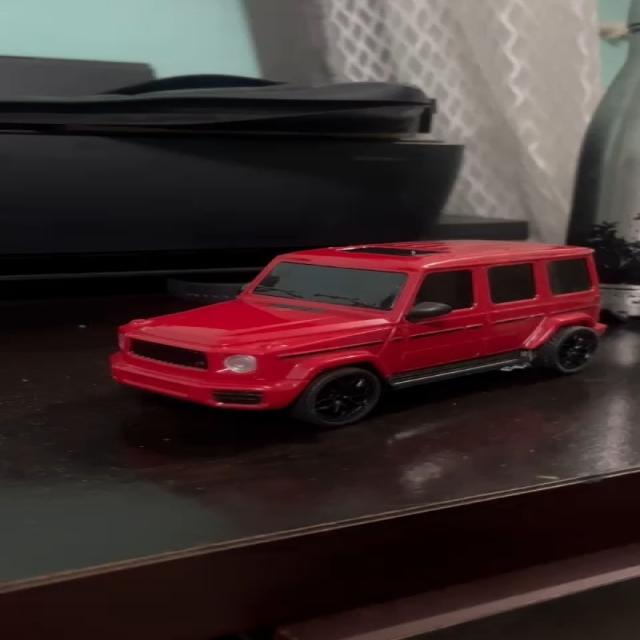light_vehicle: (99, 236, 614, 421)
